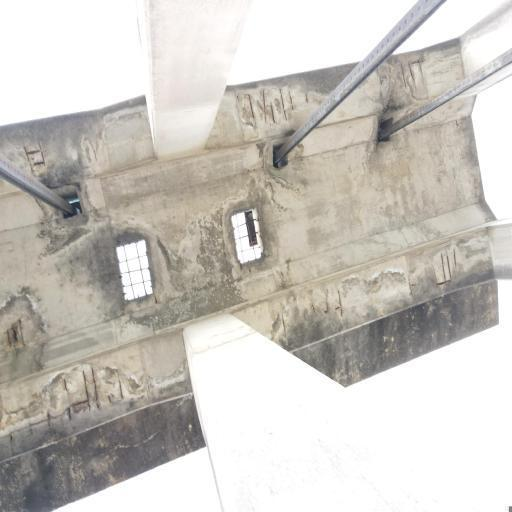exposed_rebar: (92, 368, 100, 409), (83, 370, 90, 409), (280, 89, 287, 121), (25, 148, 33, 174), (18, 318, 25, 347), (407, 63, 415, 86), (39, 142, 46, 168), (446, 252, 452, 279), (441, 253, 446, 281), (248, 94, 254, 117), (71, 400, 88, 407), (402, 66, 407, 89), (338, 290, 342, 316), (453, 243, 457, 269), (263, 91, 266, 123), (289, 91, 294, 110), (13, 327, 18, 345), (271, 103, 275, 123), (119, 379, 123, 398), (26, 150, 40, 155), (7, 329, 11, 345), (436, 279, 445, 286), (47, 412, 51, 427), (93, 148, 97, 162), (68, 407, 72, 420), (64, 379, 68, 391), (33, 161, 44, 165), (326, 302, 328, 314), (306, 92, 308, 103), (109, 395, 112, 402), (10, 434, 13, 441), (99, 133, 102, 140), (282, 315, 284, 325), (312, 304, 314, 311), (155, 297, 157, 304), (240, 263, 242, 270), (336, 307, 340, 310), (324, 310, 328, 313), (249, 268, 251, 272)
spalling: (2, 363, 161, 460), (0, 292, 46, 382), (380, 56, 428, 112), (433, 248, 456, 284)
